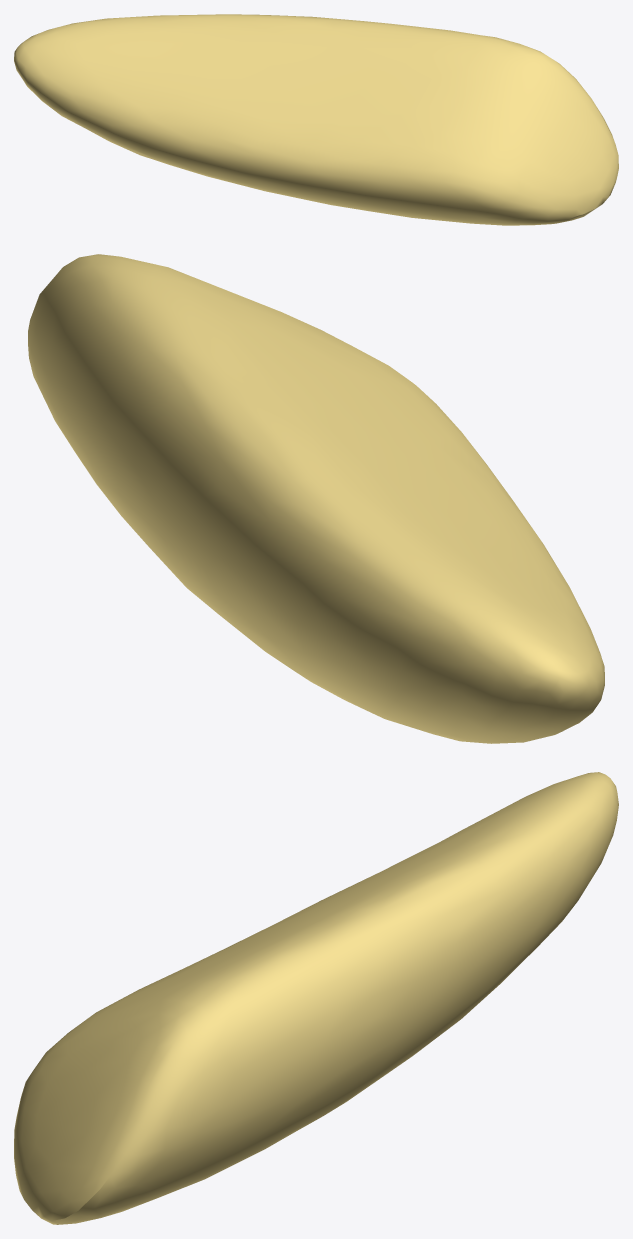
Rendered from fma76772-r_mm2932m.glb.
3 views of the same model, one above another, from view 1: azimuth 30°, elevation 25°; view 2: azimuth 150°, elevation 25°; view 3: azimuth 270°, elevation 25° (orthographic). The views are drawn at different scales.
Parts seen in each view (by area): view 1: FMA76772-R_MM2932M; view 2: FMA76772-R_MM2932M; view 3: FMA76772-R_MM2932M.
Boxes of the visible parts, x1,y1,x2,y2 form: FMA76772-R_MM2932M: (14, 14, 618, 225); FMA76772-R_MM2932M: (28, 254, 604, 743); FMA76772-R_MM2932M: (14, 772, 618, 1224).
Size of the model in its own units: 0.00614 by 0.00204 by 0.00507.
